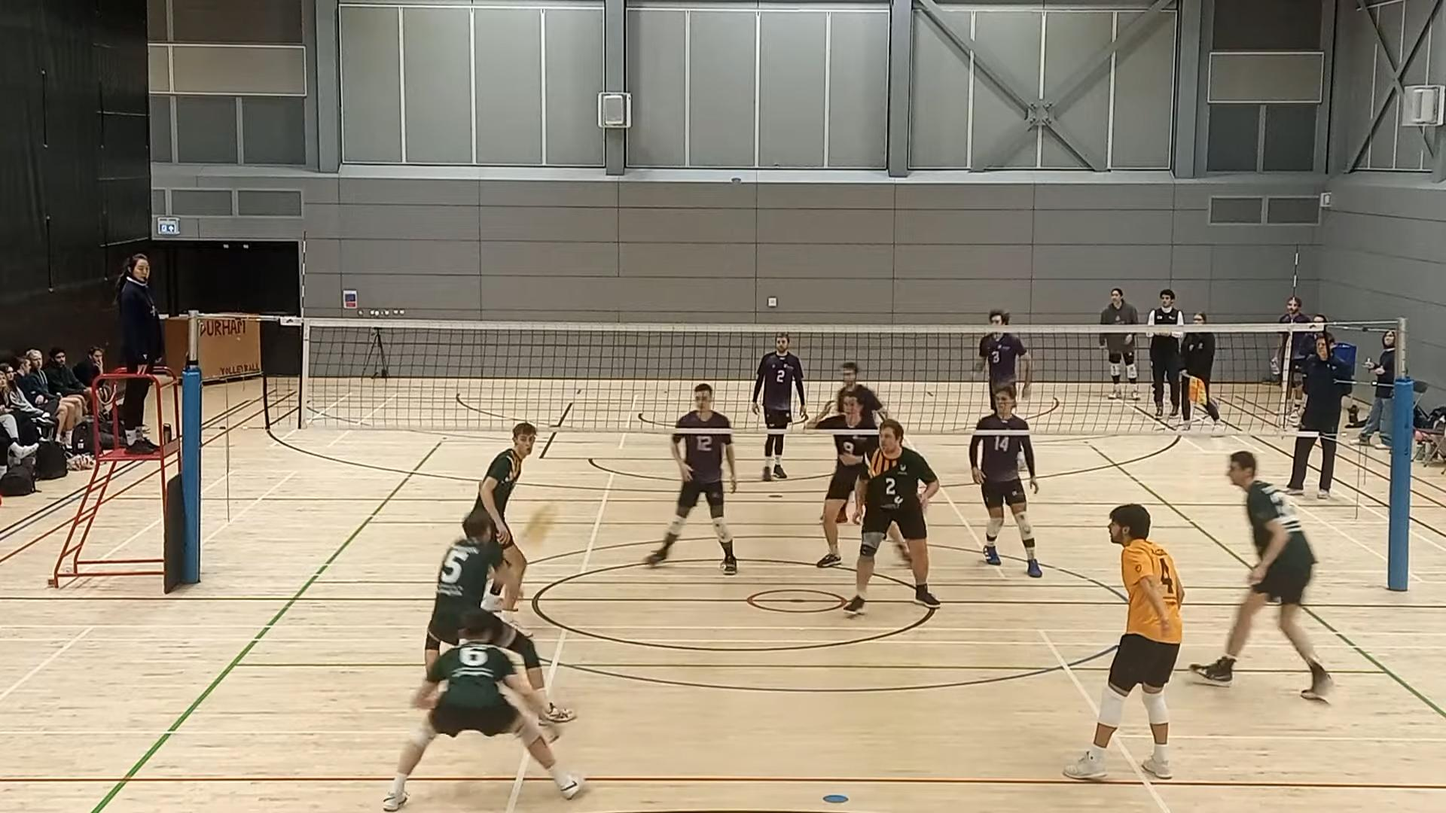Player: (383, 608, 584, 811), (1190, 451, 1332, 699), (1063, 504, 1184, 779), (844, 419, 939, 616), (645, 383, 737, 574), (969, 386, 1042, 577), (474, 422, 536, 623), (816, 390, 877, 567), (752, 333, 808, 480), (976, 309, 1031, 397), (815, 361, 888, 423), (818, 361, 888, 421)
Receive: (422, 506, 579, 724)
